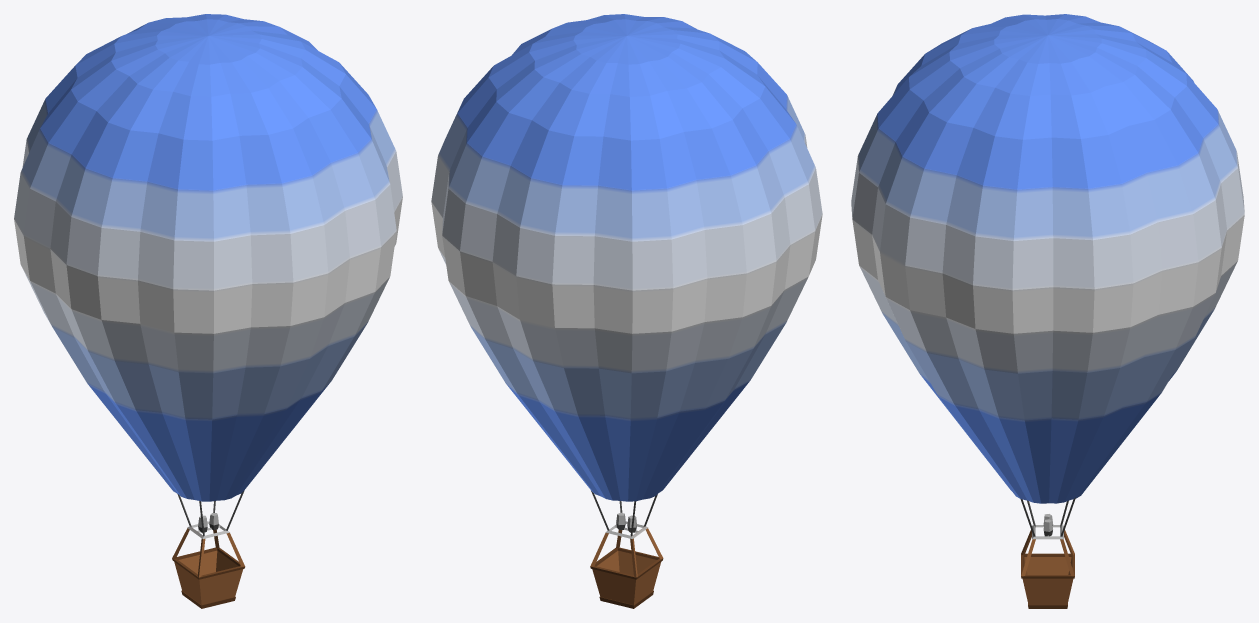
The model's file is balloon.glb.
3 views of the same model, side by side, from view 1: azimuth 30°, elevation 25°; view 2: azimuth 150°, elevation 25°; view 3: azimuth 270°, elevation 25° (orthographic).
Parts seen in each view (by area): view 1: Hot Air Balloon; view 2: Hot Air Balloon; view 3: Hot Air Balloon.
Boxes of the visible parts, bbox=[...] form: Hot Air Balloon: bbox=[14, 14, 402, 608]; Hot Air Balloon: bbox=[431, 14, 822, 608]; Hot Air Balloon: bbox=[851, 14, 1244, 608].
Bounding box in the file's own units: 11.56 × 18.57 × 11.72.
Materials: 1 (1 with a texture image).
